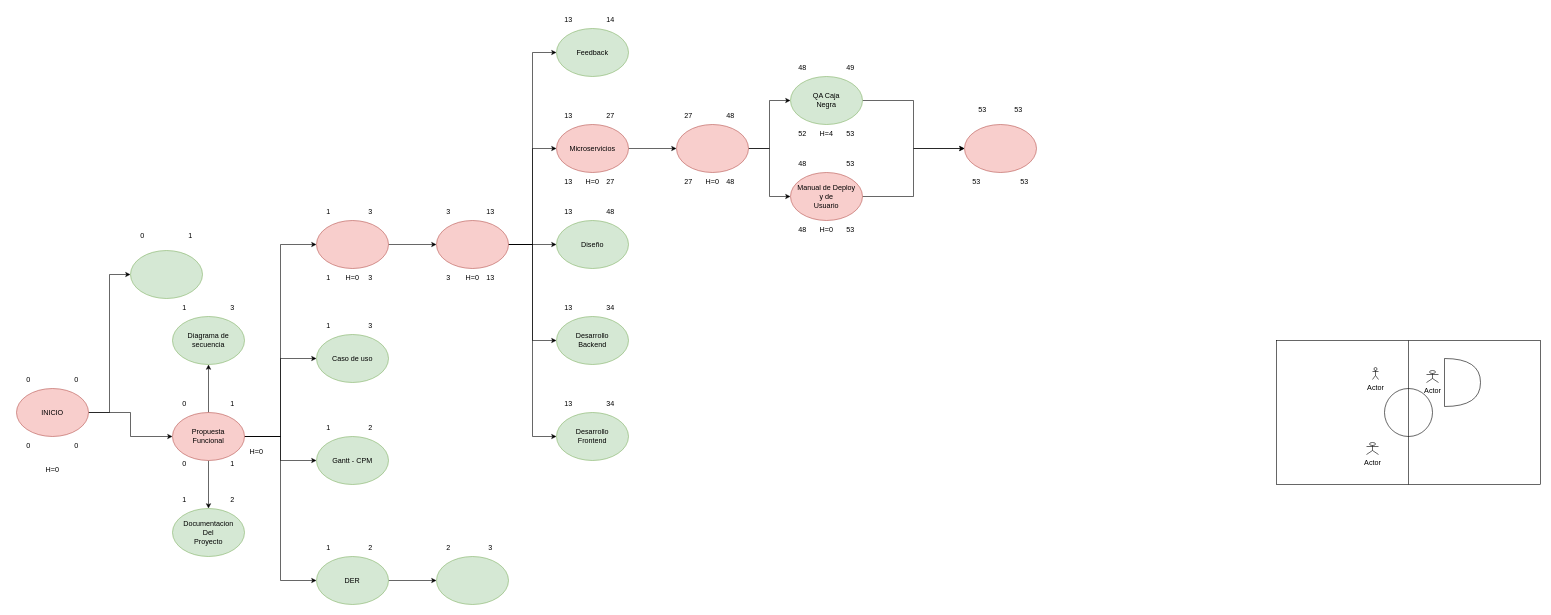
This 1551x615 diagram has some shape labels left out. Here are the shapes that lost their labels. From the top down, the box of each, then its label:
(676, 124, 748, 172): 3 Tecnicas de Seguridad
(964, 124, 1036, 172): FIN
(316, 220, 388, 268): FODA
(436, 220, 508, 268): Prototipado Rapido
(130, 250, 202, 298): Contexto
(436, 556, 508, 604): Clase
